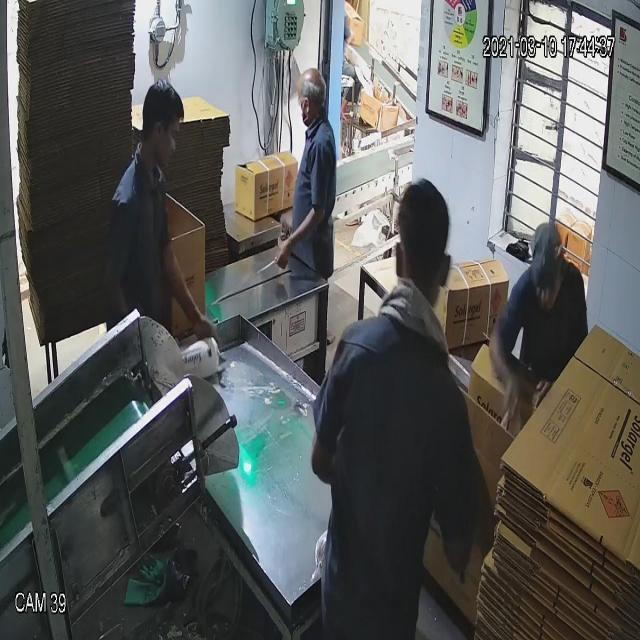No_Gloves: (50, 68, 511, 378)
